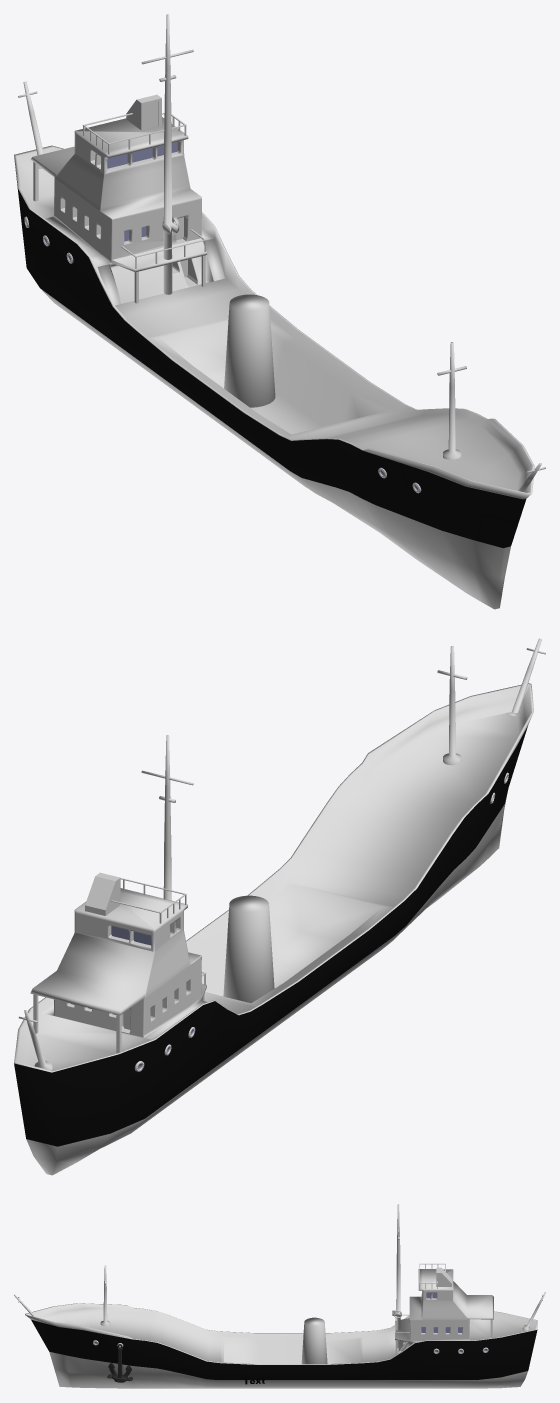
Rendered from D4_Ship1.glb.
3 views of the same model, one above another, from view 1: azimuth 30°, elevation 25°; view 2: azimuth 150°, elevation 25°; view 3: azimuth 270°, elevation 25° (orthographic). The views are drawn at different scales.
Visible parts, largest first — view 1: Object_6, Object_2, Cylinder, Object_4; view 2: Object_6, Object_2, Cylinder; view 3: Object_6, Object_2, Cylinder, osnova_low.
Part boxes in pixels (bbox=[...]): Object_6: bbox=[14, 14, 545, 609]; Object_2: bbox=[15, 164, 526, 548]; Cylinder: bbox=[224, 294, 275, 407]; Object_4: bbox=[26, 141, 418, 490]; Object_6: bbox=[14, 638, 545, 1175]; Object_2: bbox=[14, 726, 527, 1146]; Cylinder: bbox=[223, 895, 274, 1002]; Object_6: bbox=[14, 1204, 545, 1388]; Object_2: bbox=[31, 1319, 537, 1379]; Cylinder: bbox=[301, 1317, 327, 1364]; osnova_low: bbox=[107, 1362, 132, 1382].
Bounding box in the file's own units: 6.75 × 16.34 × 43.39.
Materials: 6 (1 with a texture image).
